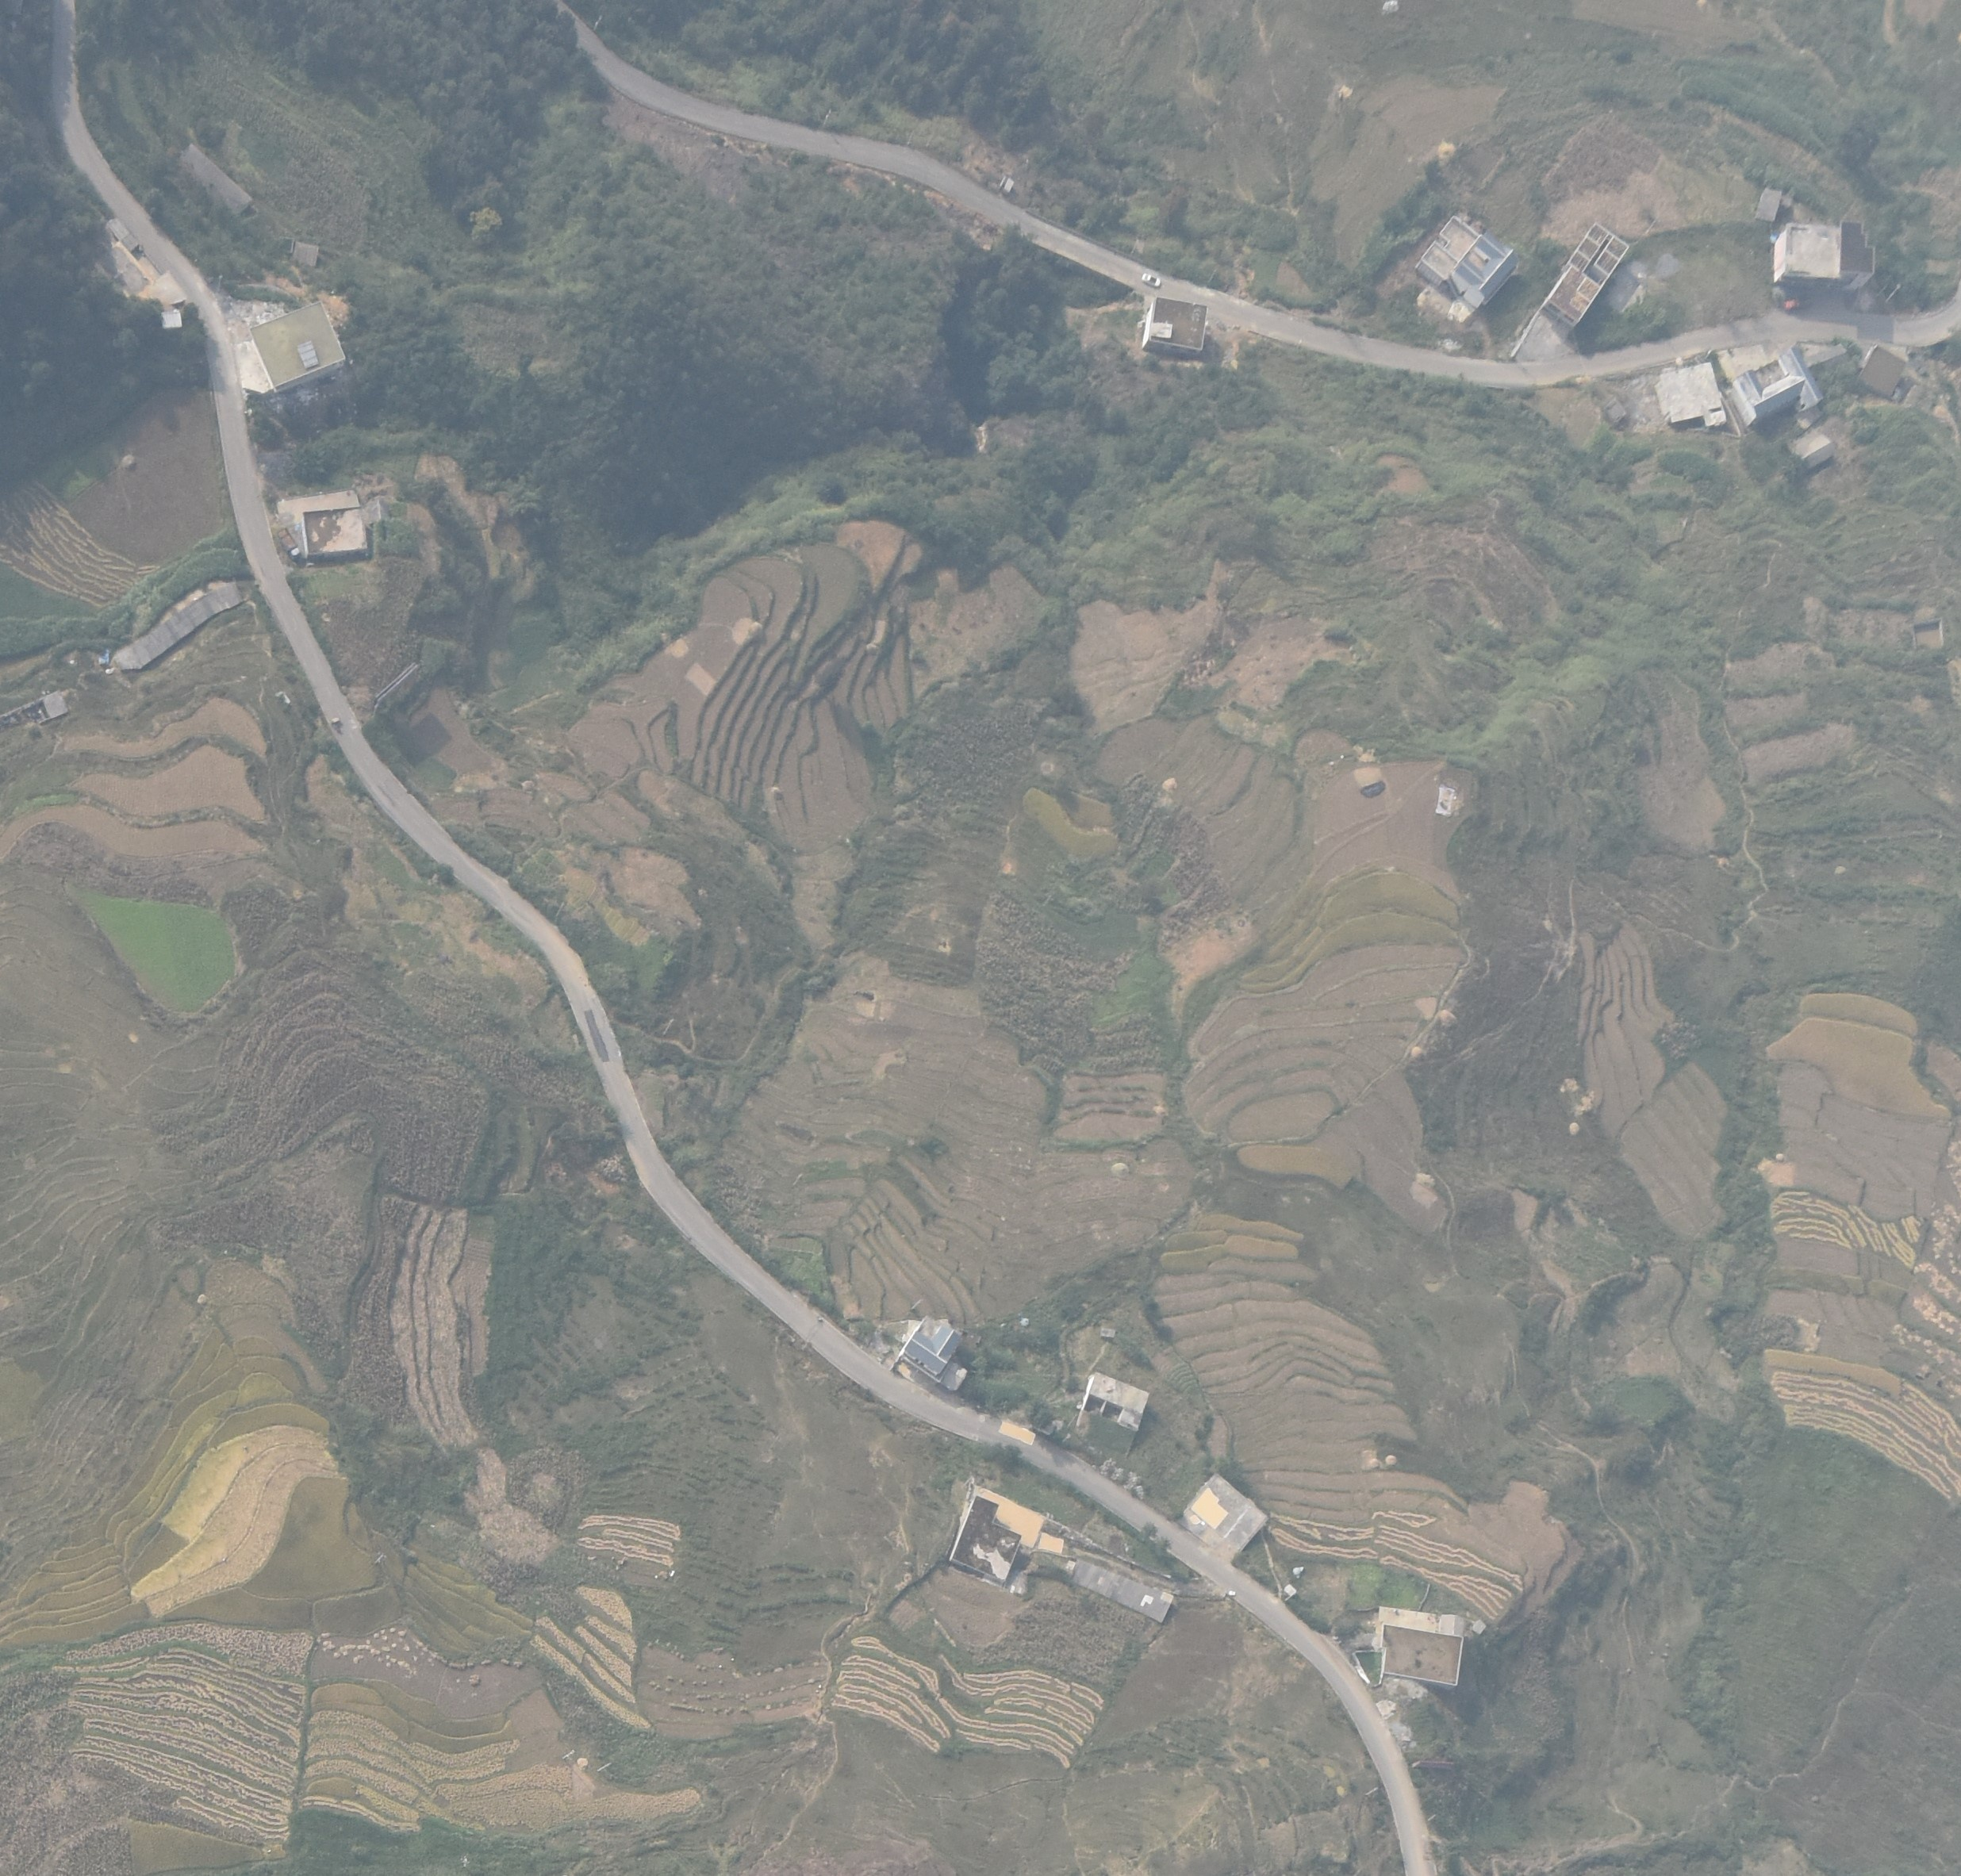building: (114, 580, 241, 669), (1540, 223, 1632, 328), (1414, 217, 1518, 307), (249, 301, 347, 391), (1069, 1559, 1173, 1626), (1773, 224, 1876, 290), (947, 1495, 1022, 1584), (1380, 1625, 1464, 1686), (1660, 362, 1728, 428), (1080, 1372, 1150, 1434), (1733, 371, 1806, 429), (1141, 297, 1207, 358), (299, 506, 370, 557), (900, 1323, 964, 1375), (1855, 345, 1909, 400)
vehicle: (1783, 298, 1813, 309), (1141, 274, 1161, 287)
